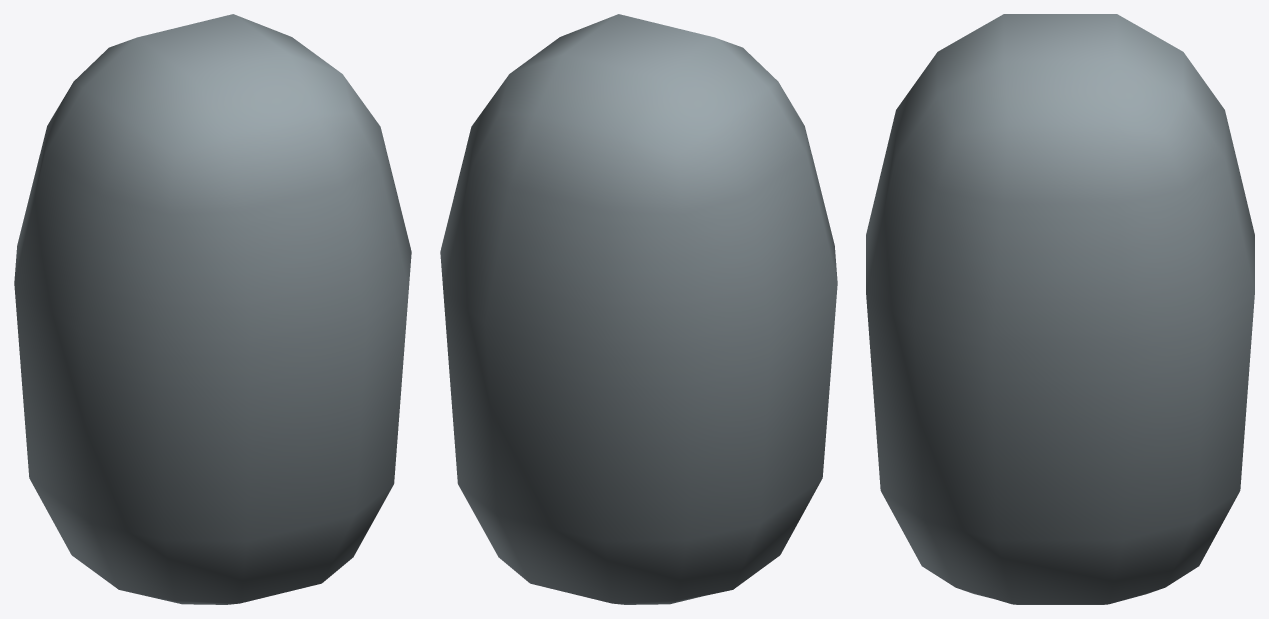
File: Rock_6_C_Color1.gltf
The picture shows the model from 3 angles, left to right: view 1: azimuth 30°, elevation 25°; view 2: azimuth 150°, elevation 25°; view 3: azimuth 270°, elevation 25°; orthographic projection. The views are drawn at different scales.
Visible parts, largest first — view 1: Rock_6_C_Color1; view 2: Rock_6_C_Color1; view 3: Rock_6_C_Color1.
Part boxes in pixels (x1,y1,x2,y2): Rock_6_C_Color1: (14,14,411,604); Rock_6_C_Color1: (440,14,837,604); Rock_6_C_Color1: (866,14,1254,604).
Bounding box in the file's own units: 0.6495 × 0.9797 × 0.6495.
Materials: 1 (1 with a texture image).
